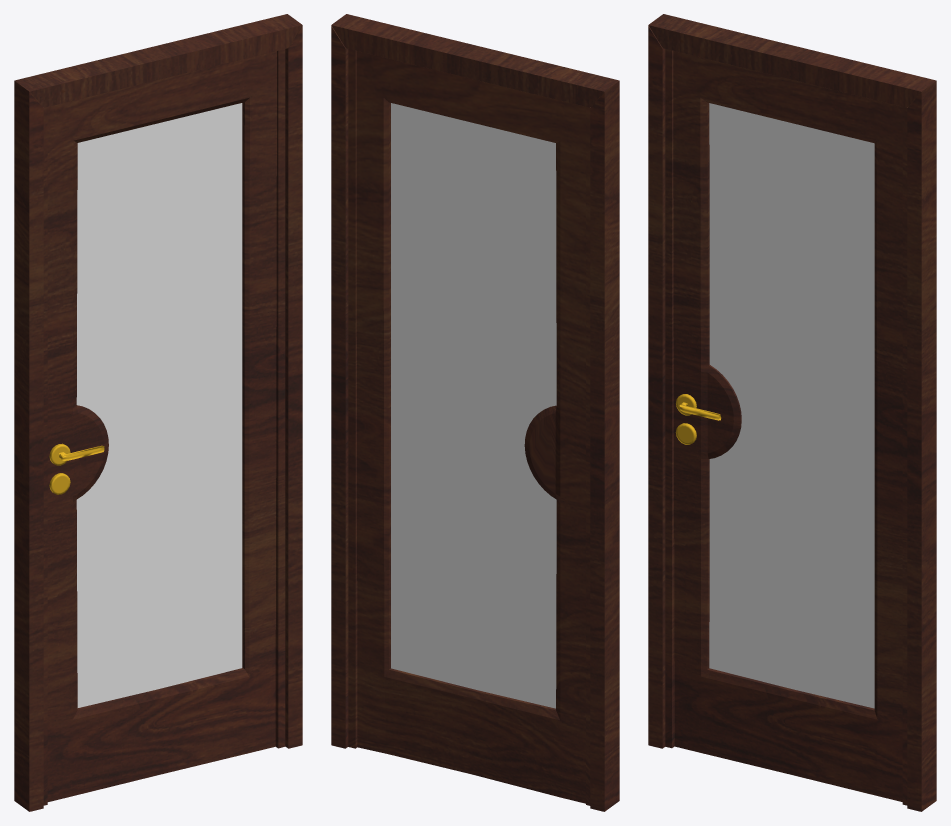
Rendered from PUERTA43_VERCELLI.glb.
The picture shows the model from 3 angles, left to right: view 1: azimuth 30°, elevation 25°; view 2: azimuth 150°, elevation 25°; view 3: azimuth 330°, elevation 25°; orthographic projection.
Visible parts, largest first — view 1: PUERTA43_Cristal, Puerta43_VERCELLI, Puerta43_Marco, Puerta43_Cerradura; view 2: PUERTA43_Cristal, Puerta43_VERCELLI, Puerta43_Marco; view 3: PUERTA43_Cristal, Puerta43_VERCELLI, Puerta43_Marco, Puerta43_Cerradura.
Part boxes in pixels (left/top/right/bottom): PUERTA43_Cristal: left=76, top=103, right=242, bottom=707; Puerta43_VERCELLI: left=43, top=49, right=285, bottom=805; Puerta43_Marco: left=14, top=14, right=302, bottom=811; Puerta43_Cerradura: left=49, top=443, right=104, bottom=494; PUERTA43_Cristal: left=391, top=103, right=556, bottom=708; Puerta43_VERCELLI: left=348, top=49, right=590, bottom=805; Puerta43_Marco: left=331, top=14, right=619, bottom=811; PUERTA43_Cristal: left=709, top=103, right=874, bottom=708; Puerta43_VERCELLI: left=665, top=49, right=907, bottom=805; Puerta43_Marco: left=648, top=14, right=936, bottom=811; Puerta43_Cerradura: left=675, top=394, right=721, bottom=444.
Bounding box in the file's own units: 769 × 1936 × 85.
4 materials, 2 textured.
